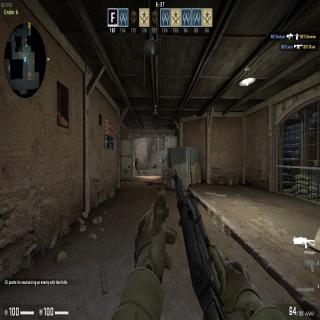T-Body: (136, 158, 138, 174)
T-Head: (136, 158, 138, 162)
